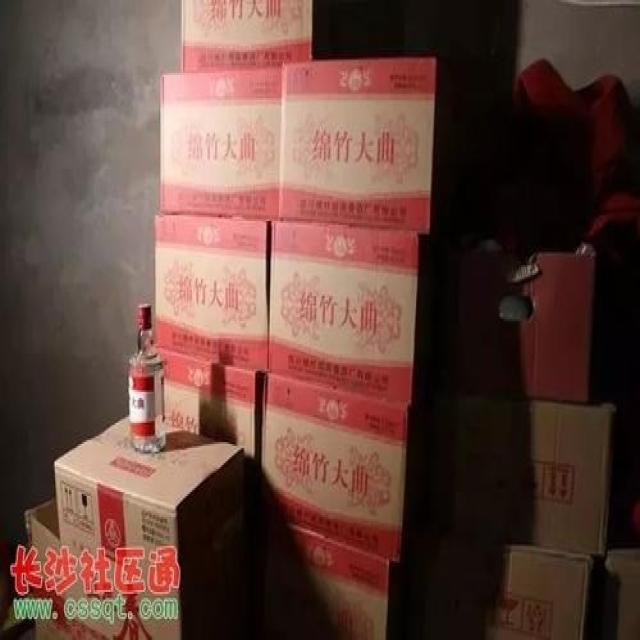box: (54, 415, 247, 640), (430, 392, 616, 557), (259, 371, 408, 565), (268, 219, 420, 406), (278, 58, 436, 233), (445, 256, 594, 404), (407, 529, 593, 640), (160, 63, 283, 219), (154, 215, 271, 373), (154, 344, 262, 513), (257, 513, 389, 640), (24, 496, 108, 640), (180, 0, 312, 71), (596, 548, 640, 638)
